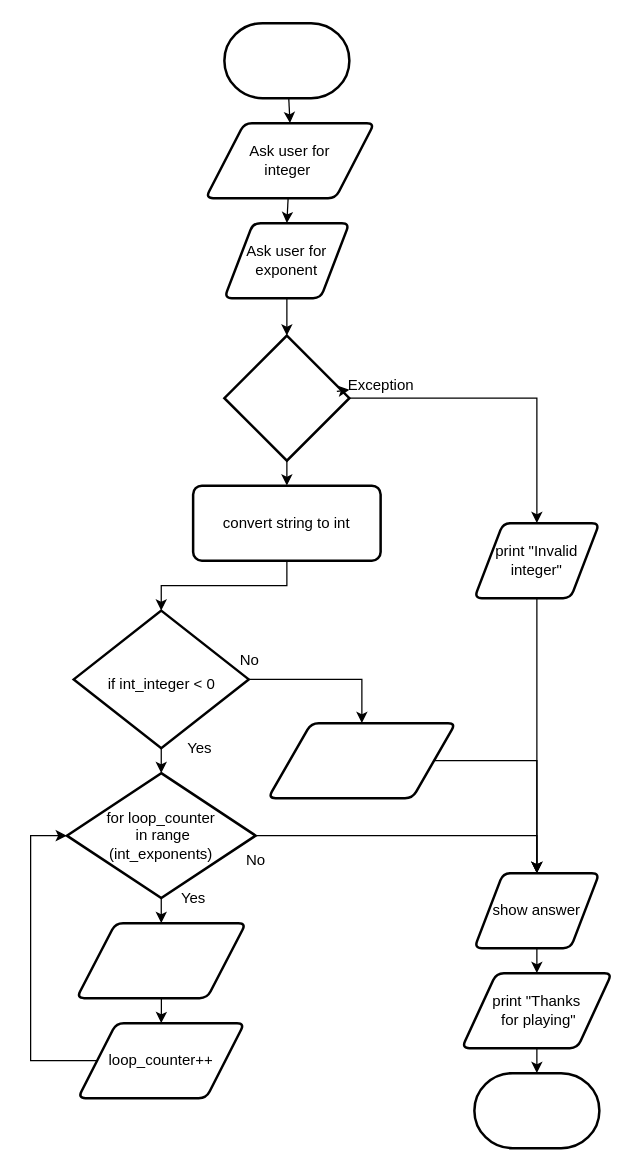
Some shapes in this 635 by 1170 pixel diagram are drawn without their labels. Each missing label, with the centre of its shape:
"answer = answer * int_integer" goes at point (161, 960).
"Start" goes at point (286, 60).
"Stop" goes at point (536, 1110).
"This is not a positive number." goes at point (361, 760).
"try" goes at point (286, 397).
